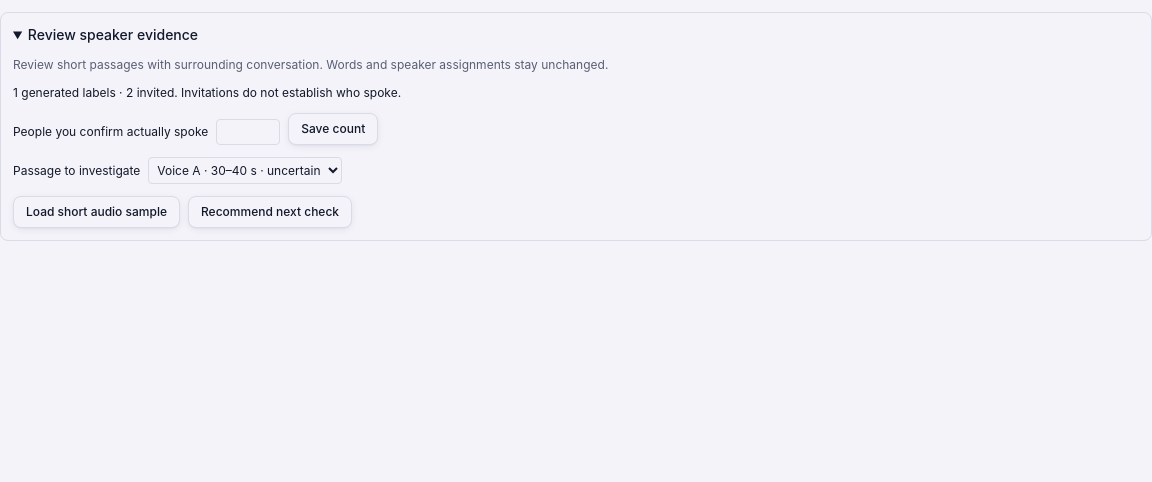
it: SpeakerReviewPanel › loads only the bounded sample and records a reply for its current evidence version
The width and height of the screenshot is (1152, 482).
Expected: the button "Save count" is shown, [288, 113, 378, 145]
Click the button "Load short audio sample" at [96, 212], box [13, 196, 180, 228]
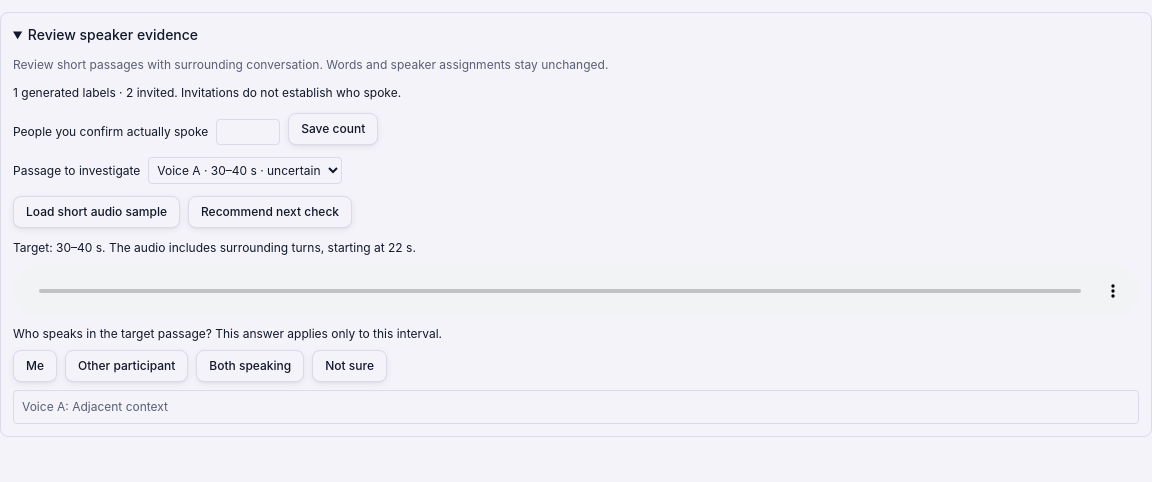
Expected: the button "Both speaking" is shown
Click the button "Both speaking" at [250, 366], box [196, 350, 304, 382]
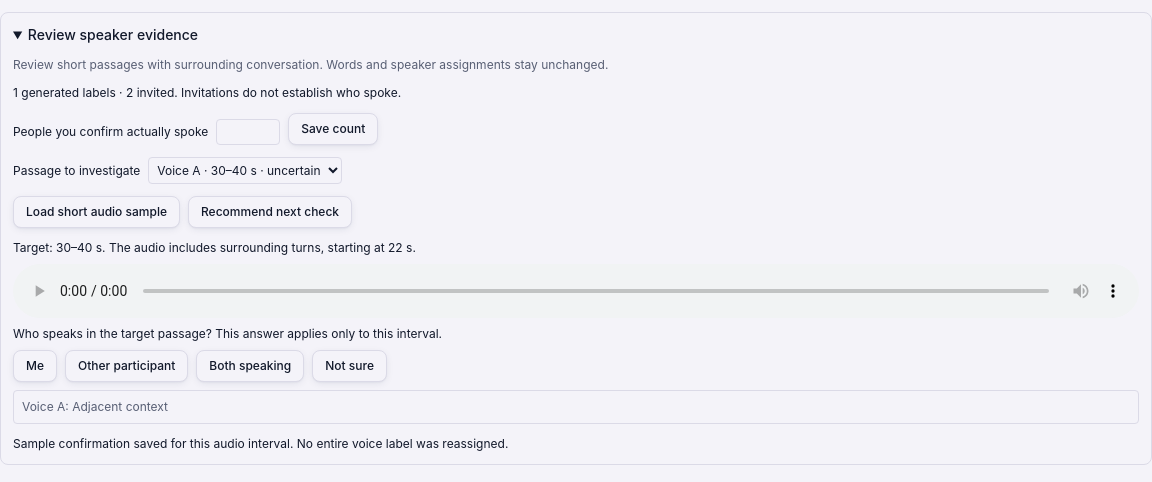
Expected: the text "No entire voice label was reassigned" is shown, [13, 436, 508, 451]
